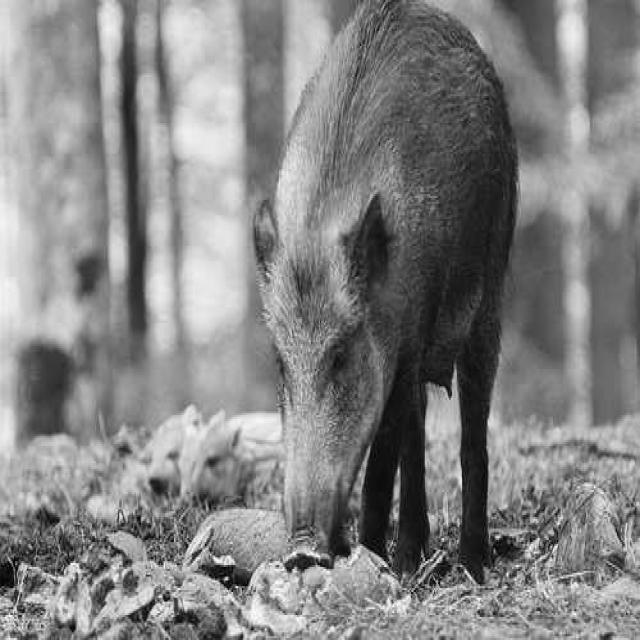boar: (253, 0, 515, 577)
